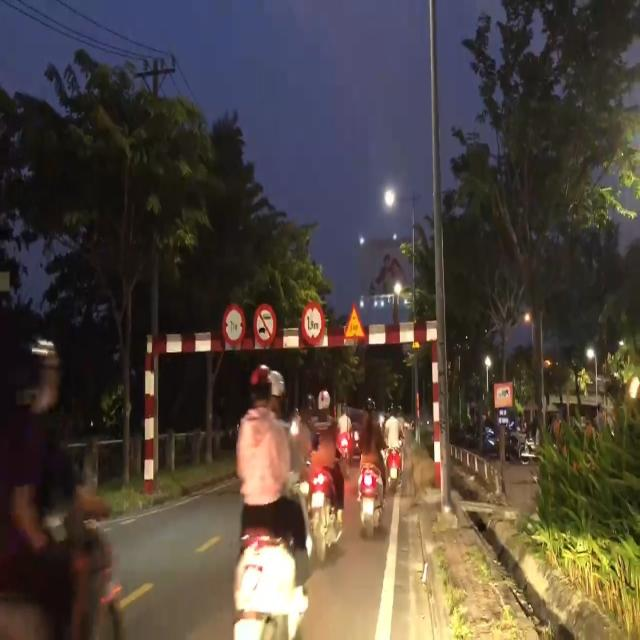Bien bao cam xe oto khach va xe oto tai: (252, 301, 278, 350)
Bien bao chieu cao tinh khong thuc te: (343, 300, 366, 341)
Bien bao han che chieu cao: (301, 298, 326, 348)
